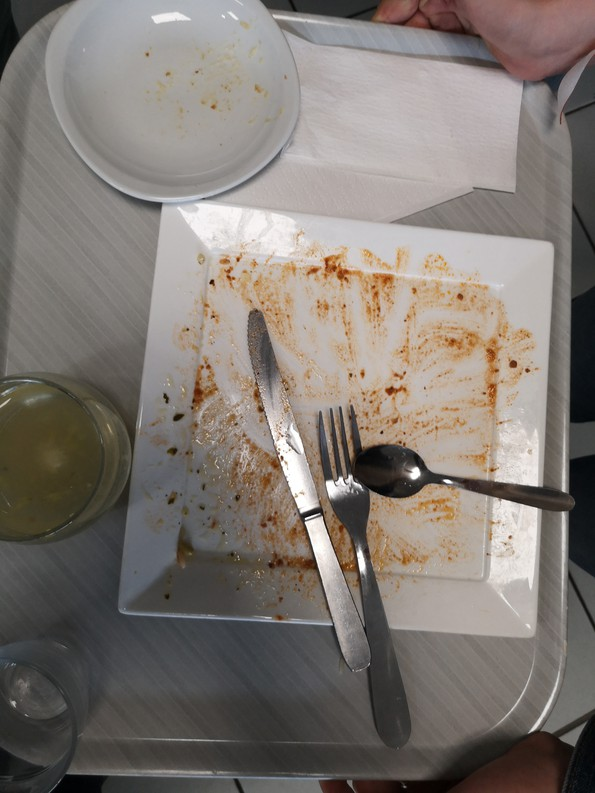cup: (1, 634, 110, 773)
cutlery: (233, 310, 369, 676), (310, 404, 420, 746), (354, 443, 581, 521)
trash: (296, 29, 526, 228)
